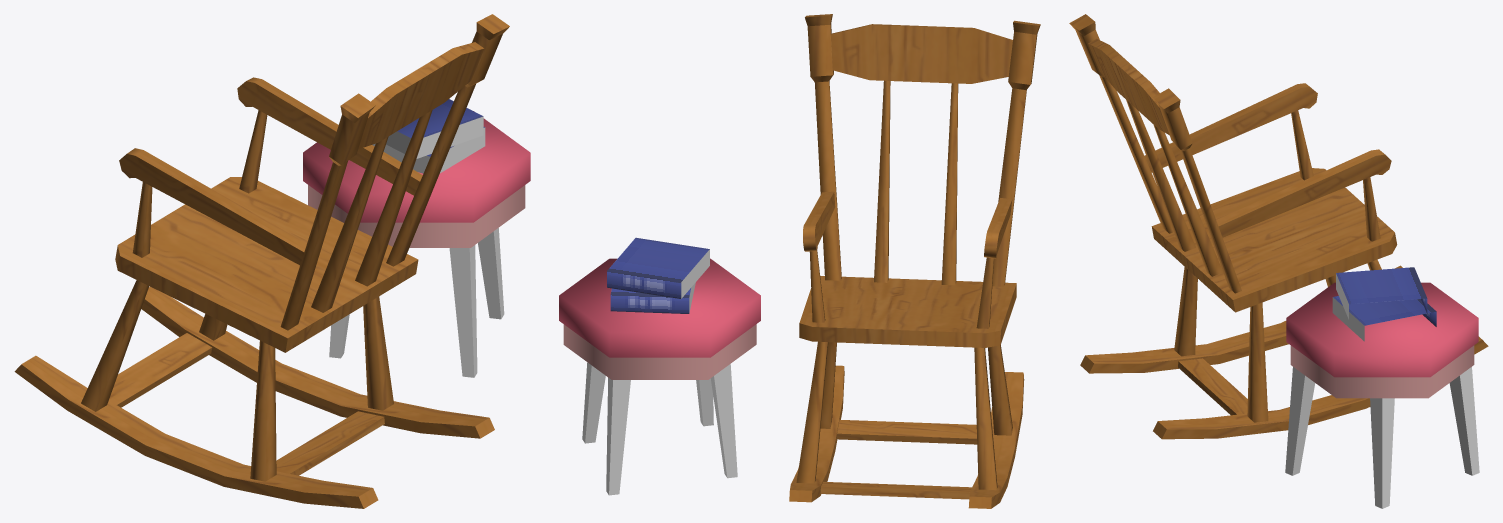
Rendered from interior_C_011.fbx.
3 renders of one model, left to right at view 1: azimuth 30°, elevation 25°; view 2: azimuth 150°, elevation 25°; view 3: azimuth 270°, elevation 25°, orthographic. The views are drawn at different scales.
Visible parts, largest first — view 1: interior_C_011; view 2: interior_C_011; view 3: interior_C_011.
Boxes of the visible parts, x1,y1,x2,y2 form: interior_C_011: (14,14,530,508); interior_C_011: (559,14,1040,508); interior_C_011: (1069,14,1488,508).
Bounding box in the file's own units: 122 × 104 × 110.
